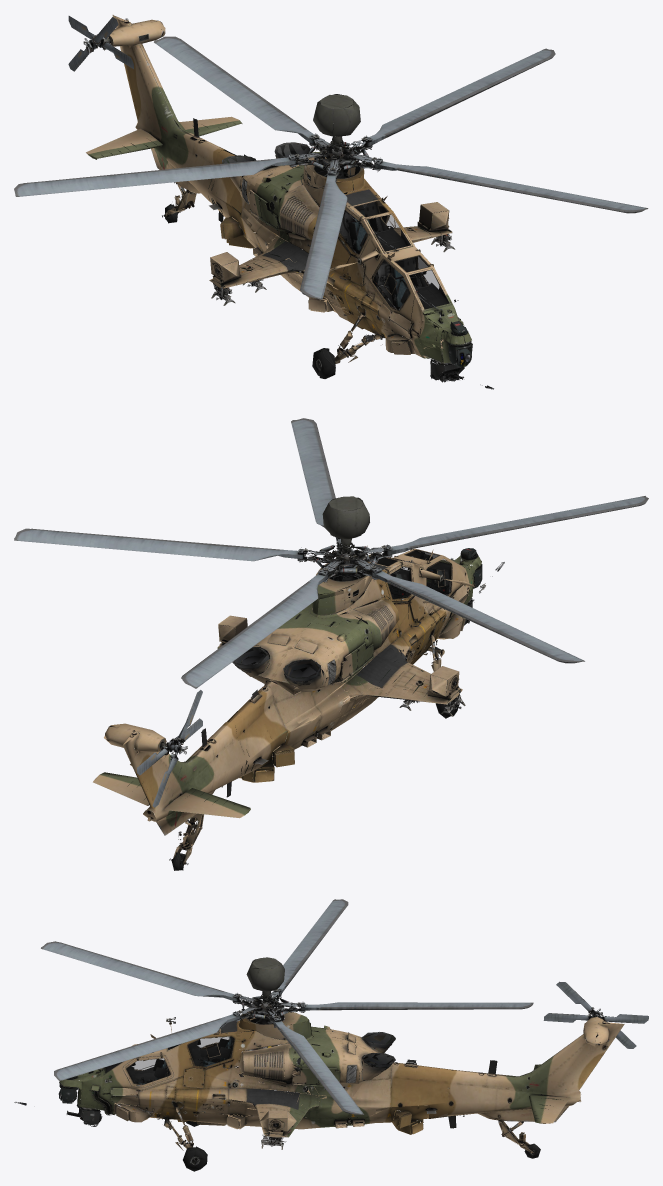
Rendered from elite_vtol.glb.
The picture shows the model from 3 angles, top to bottom: view 1: azimuth 30°, elevation 25°; view 2: azimuth 150°, elevation 25°; view 3: azimuth 270°, elevation 25°; orthographic projection. The views are drawn at different scales.
Visible parts, largest first — view 1: Object_2; view 2: Object_2; view 3: Object_2.
Boxes of the visible parts, bbox=[...] form: Object_2: bbox=[14, 15, 648, 389]; Object_2: bbox=[14, 418, 648, 870]; Object_2: bbox=[14, 899, 648, 1171].
Bounding box in the file's own units: 6.44 × 2.71 × 8.
13 materials, 8 textured.
